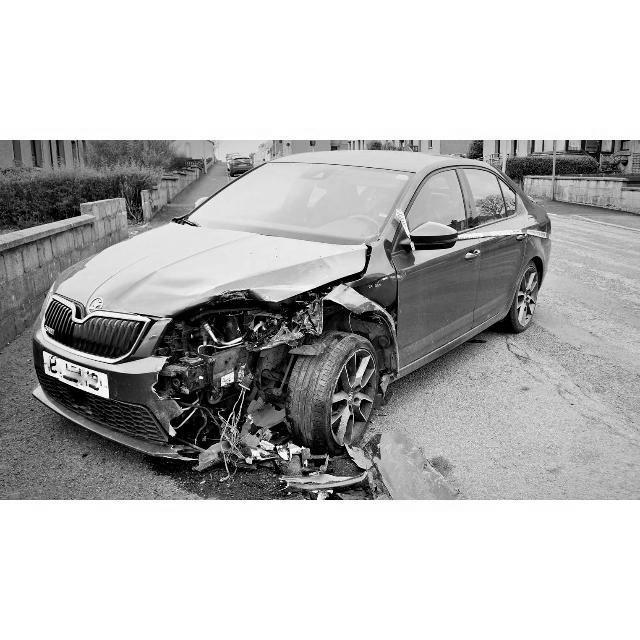Headlight-damage: (183, 306, 299, 357)
bonnet-dent: (119, 265, 312, 315)
fender-dent: (321, 253, 395, 360)
front-bumper-dent: (135, 358, 289, 462)
